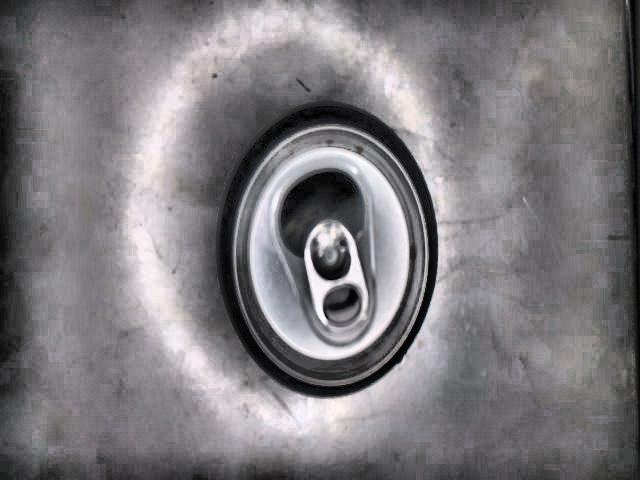Bottles: (218, 103, 437, 396)
